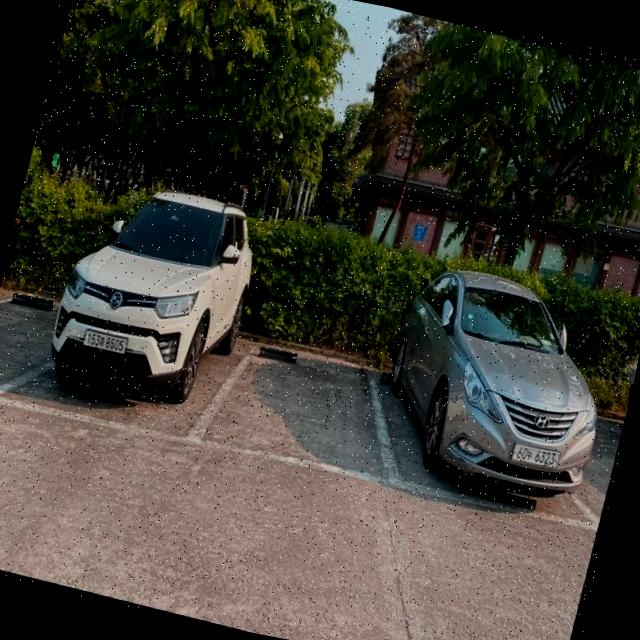car: (367, 260, 637, 524), (41, 170, 274, 422)
free: (203, 323, 402, 494)
